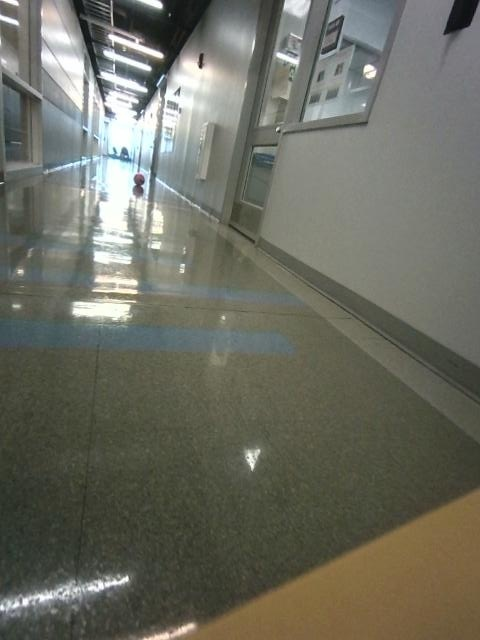ball: (133, 172, 144, 185)
